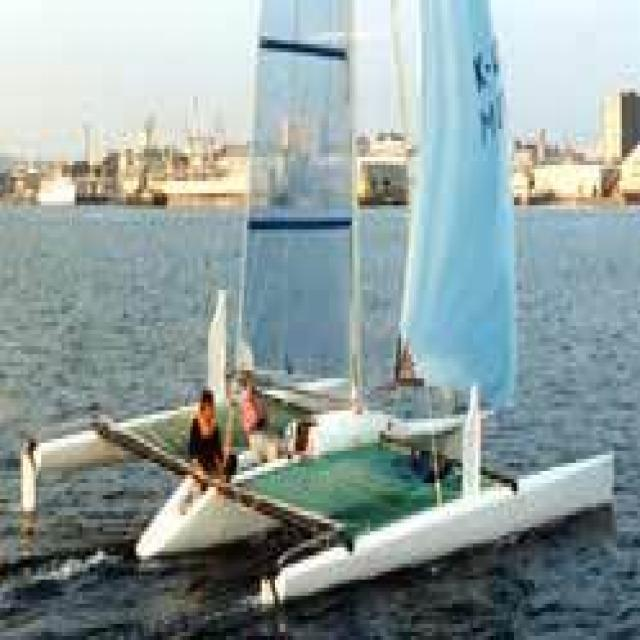Ship: (10, 4, 640, 640)
